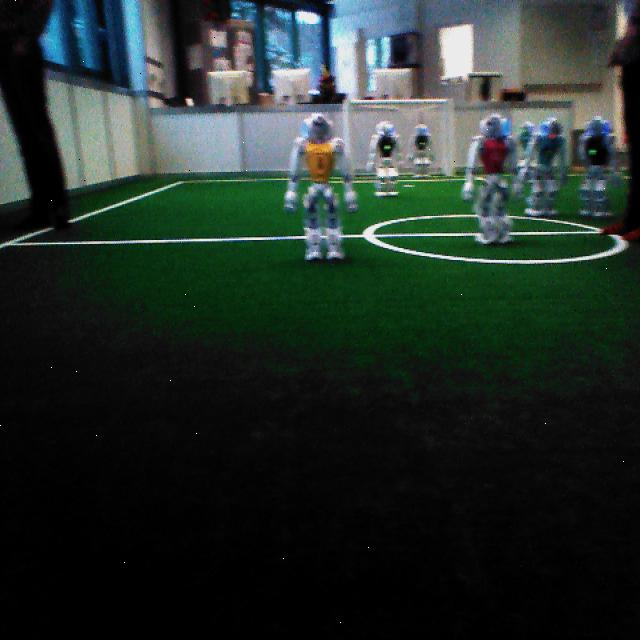goalpost: (441, 96, 456, 177), (340, 95, 353, 173)
